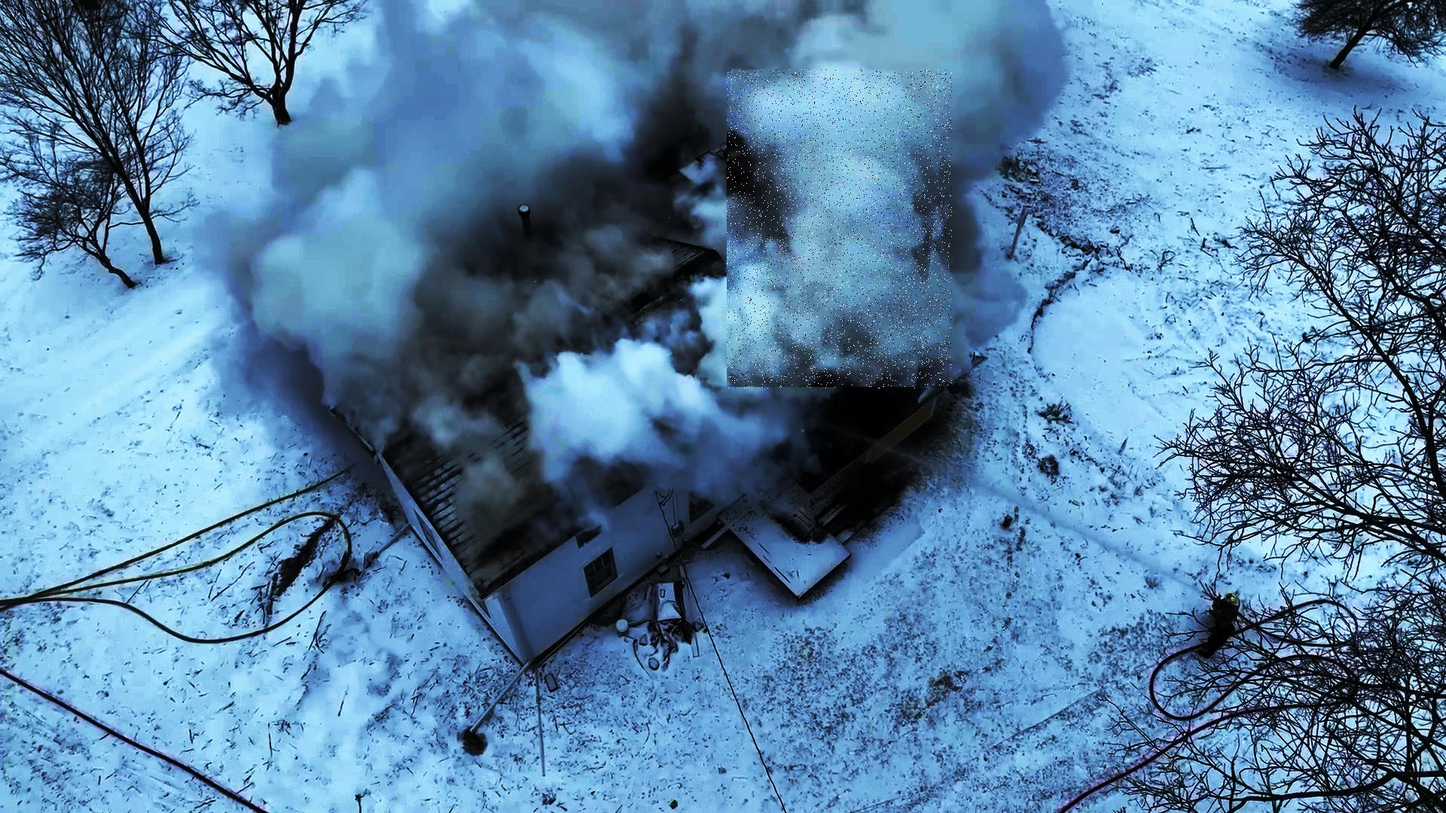smoke: (727, 70, 952, 389)
